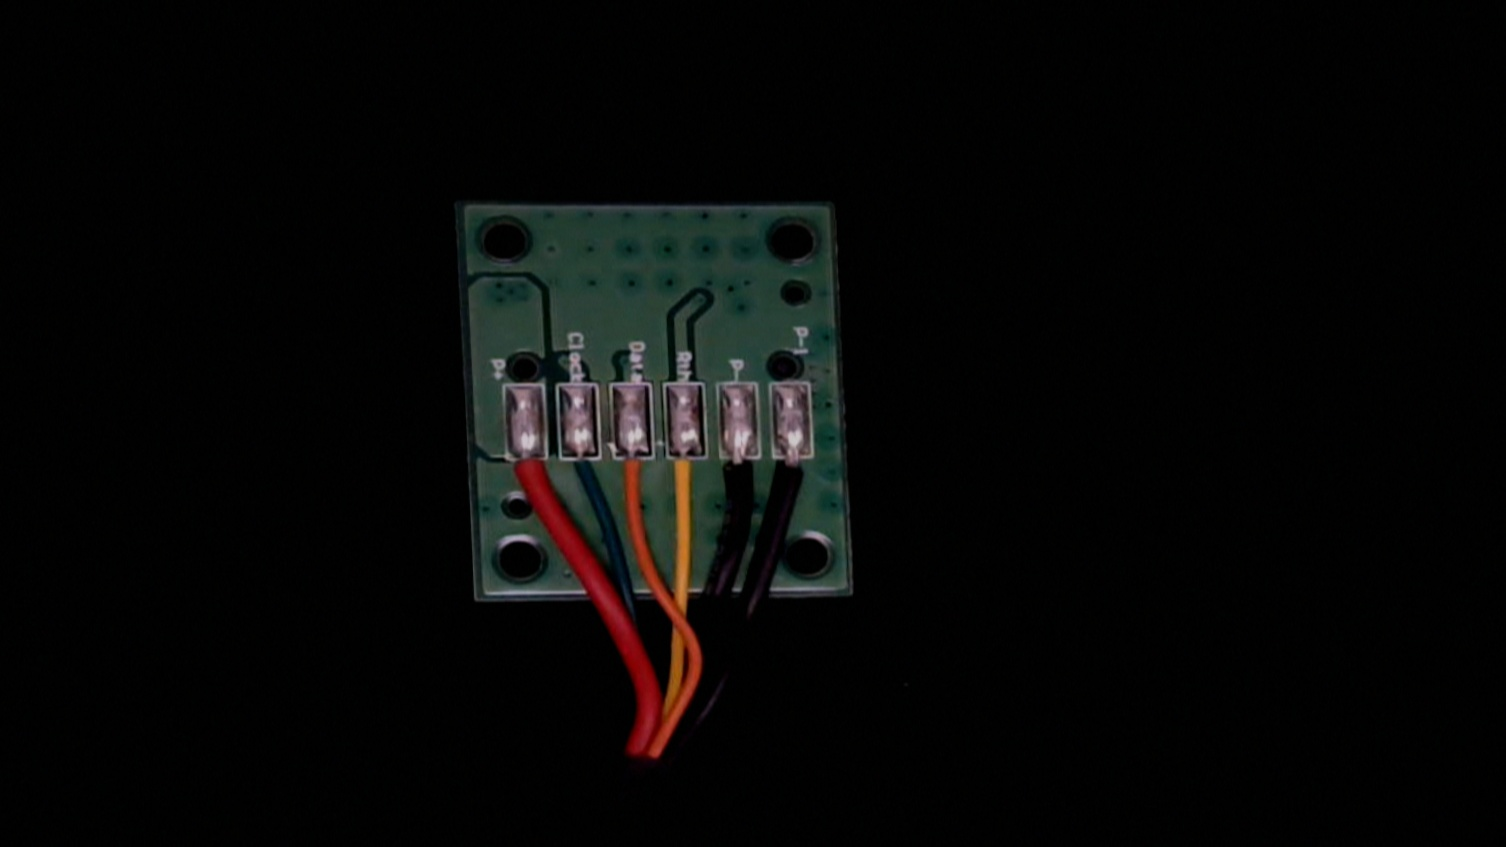Black: (716, 445, 764, 525)
Black1: (773, 442, 818, 518)
Green: (559, 438, 606, 510)
Orange: (611, 441, 657, 524)
Red: (503, 440, 553, 511)
Yellow: (660, 442, 714, 523)
